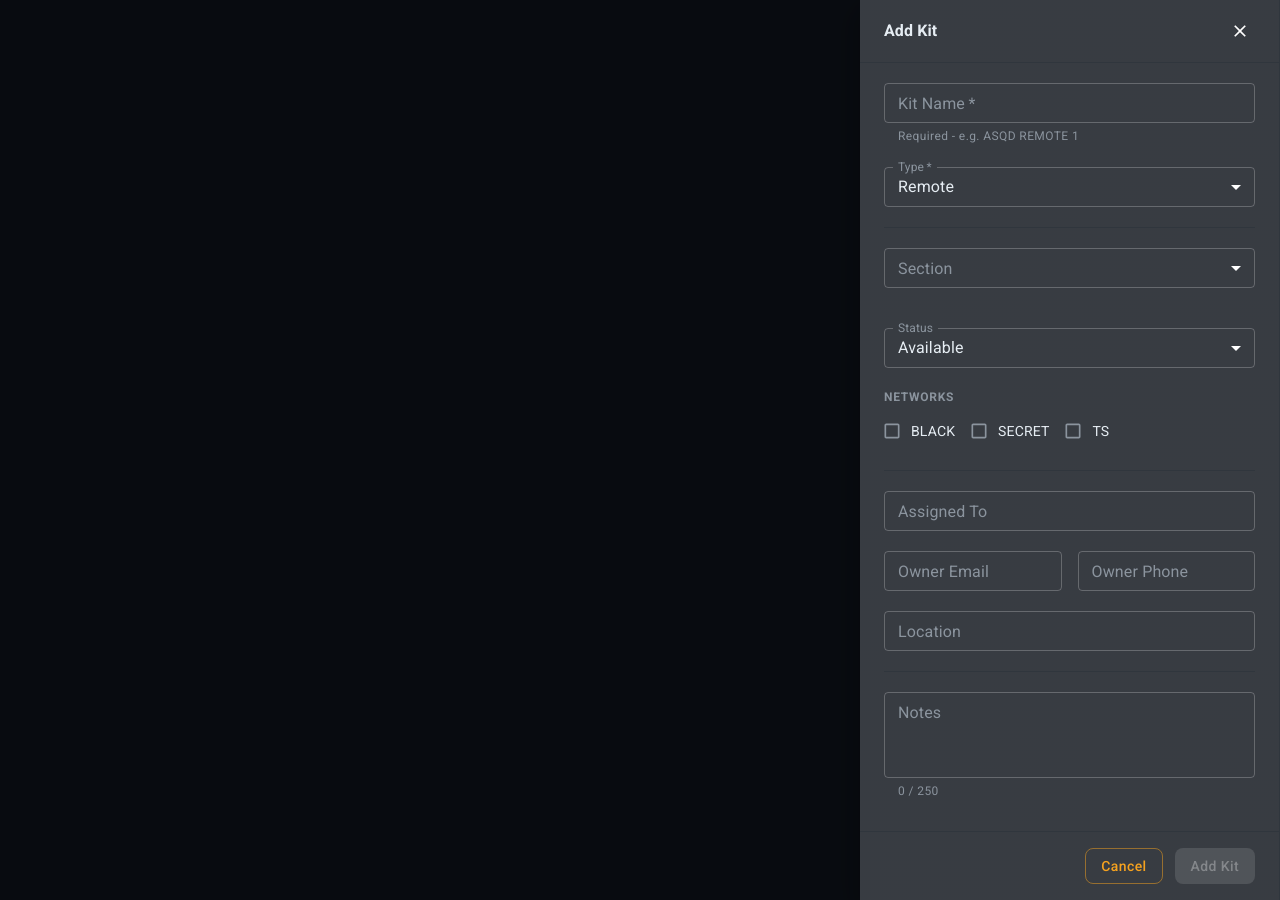
Test: an edit with no kit › neither updates nor creates on submit
The width and height of the screenshot is (1280, 900).
In the field labelled "Kit Name *": coordinates (1070, 103) [884,83,1255,123], type "KIT-001"
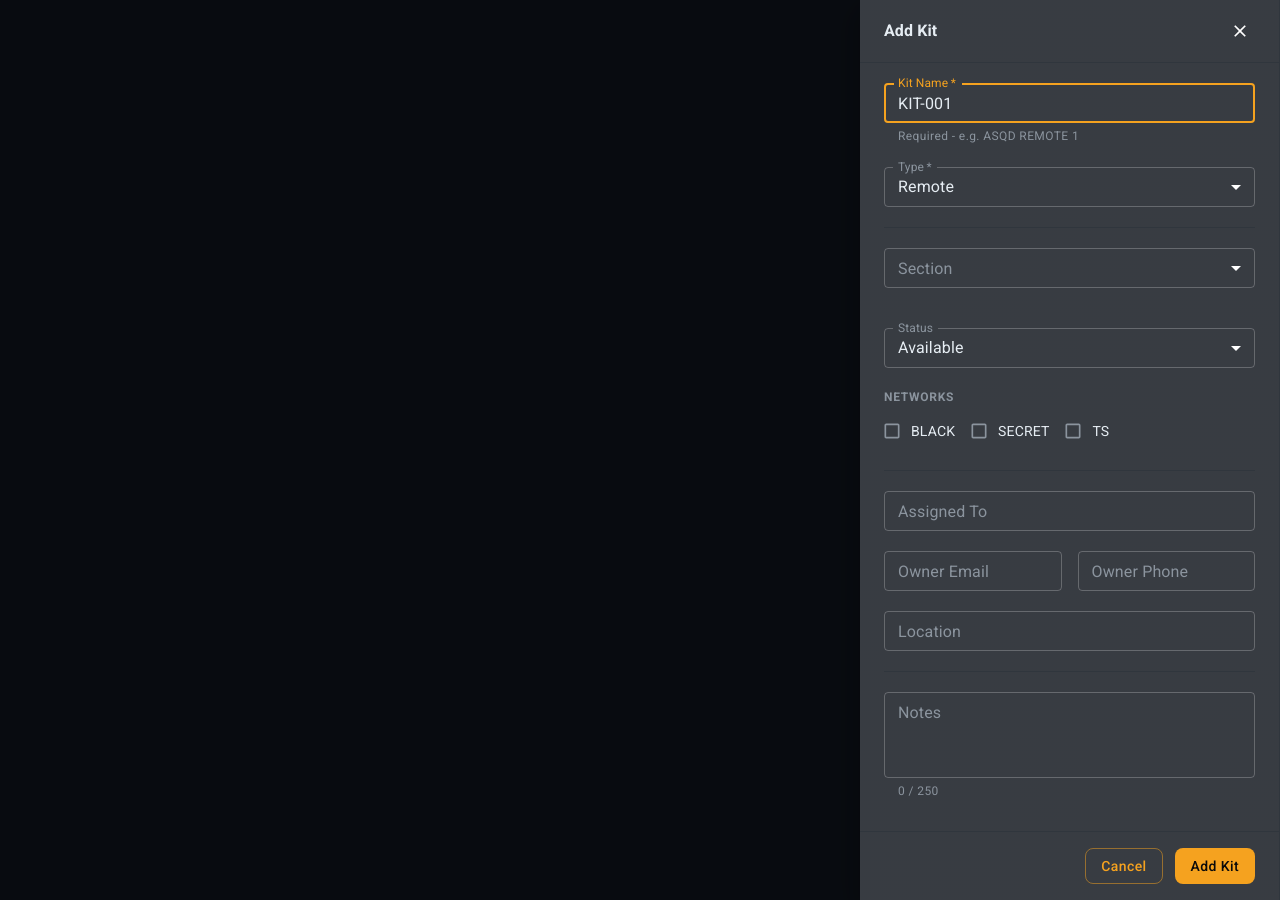
Click the button "Add Kit": coordinates (1215, 866) [1175,848,1255,884]
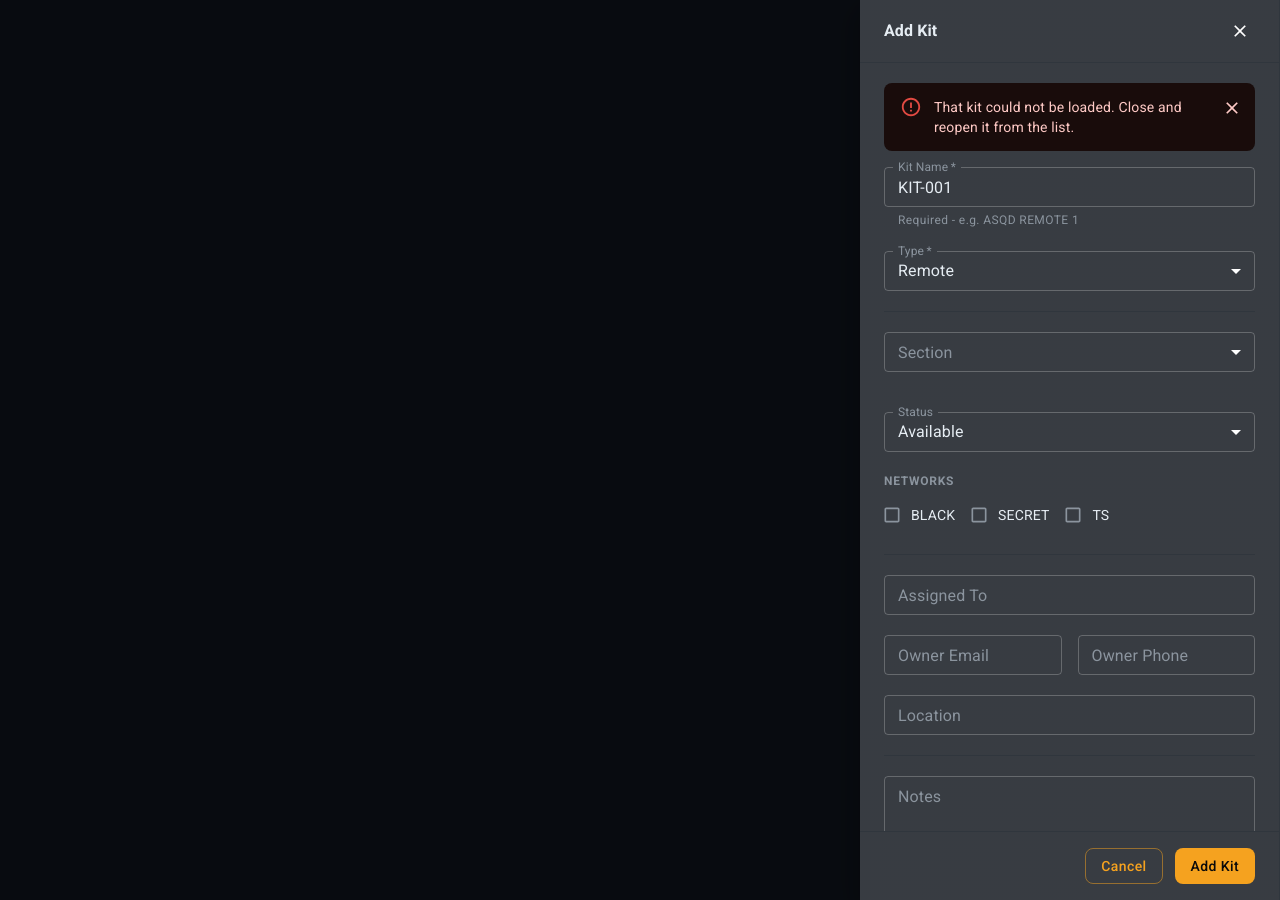
Check: the text "could not be loaded" is shown, box [934,99,1182,135]
